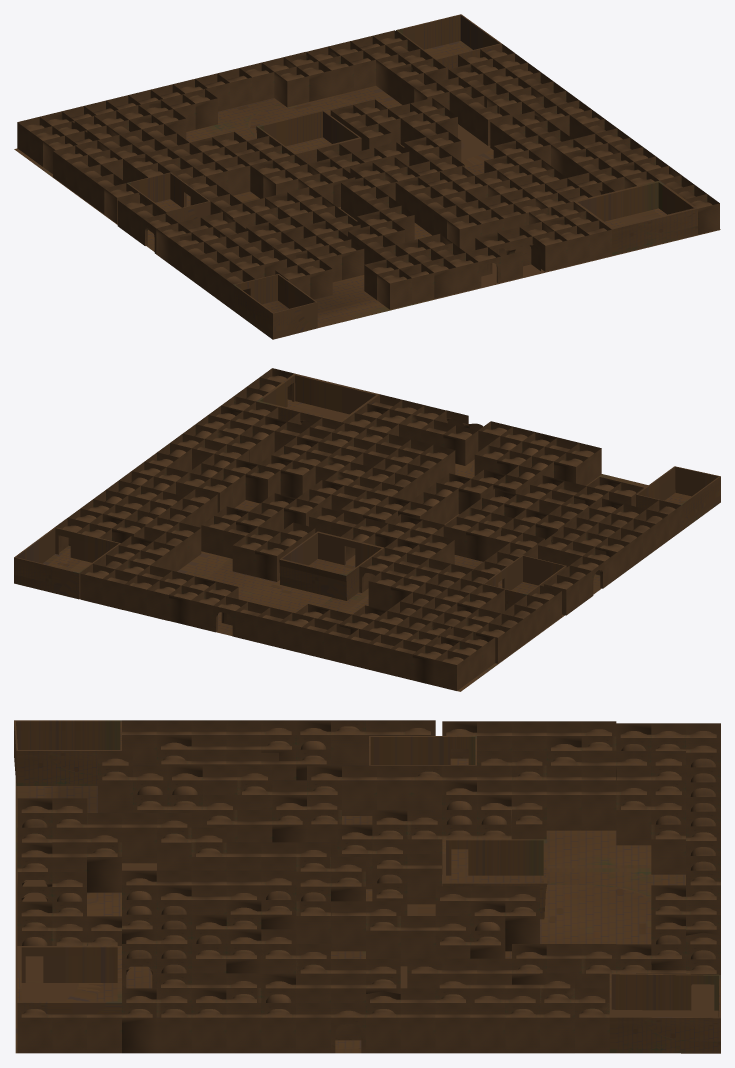
File: MassiveMaze.fbx
3 renders of one model, top to bottom at view 1: azimuth 30°, elevation 25°; view 2: azimuth 150°, elevation 25°; view 3: azimuth 270°, elevation 25°, orthographic. The views are drawn at different scales.
Parts seen in each view (by area): view 1: Plane.002; view 2: Plane.002; view 3: Plane.002.
Part boxes in pixels (<box>): Plane.002: <box>14,14,720,339</box>; Plane.002: <box>14,368,720,691</box>; Plane.002: <box>14,720,720,1053</box>.
Size of the model in its own units: 16174 by 928 by 16242.
